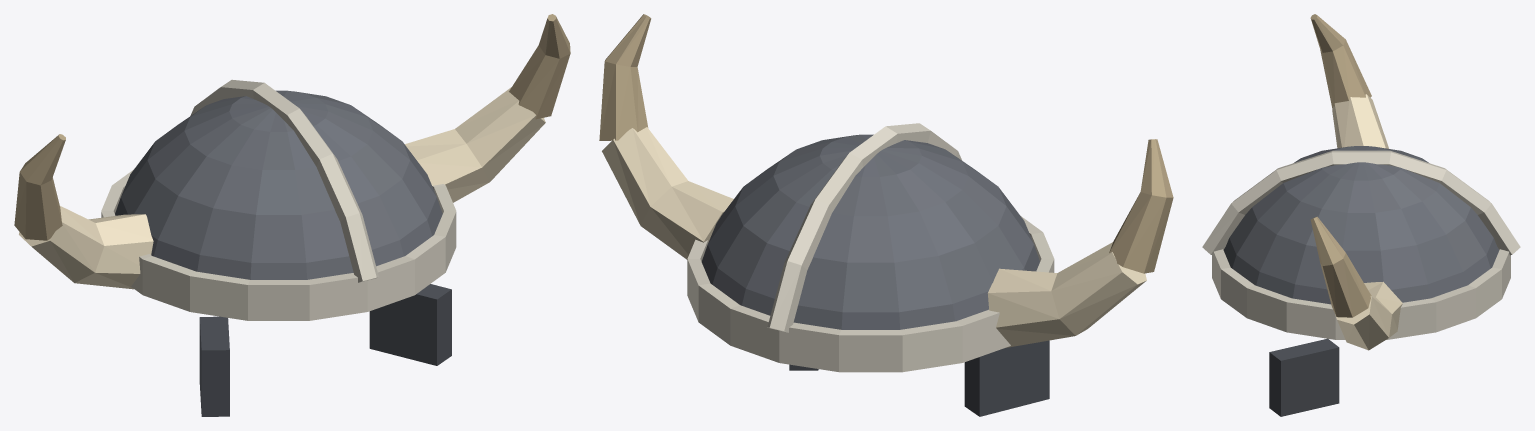
File: armor_head_horned.glb
3 renders of one model, left to right at view 1: azimuth 30°, elevation 25°; view 2: azimuth 150°, elevation 25°; view 3: azimuth 270°, elevation 25°, orthographic. The views are drawn at different scales.
Parts seen in each view (by area): view 1: armor_head_horned; view 2: armor_head_horned; view 3: armor_head_horned.
Part boxes in pixels (left/top/right/bottom): armor_head_horned: left=14, top=14, right=570, bottom=416; armor_head_horned: left=599, top=14, right=1173, bottom=416; armor_head_horned: left=1202, top=14, right=1520, bottom=416.
Bounding box in the file's own units: 1.12 × 0.5792 × 0.6693.
